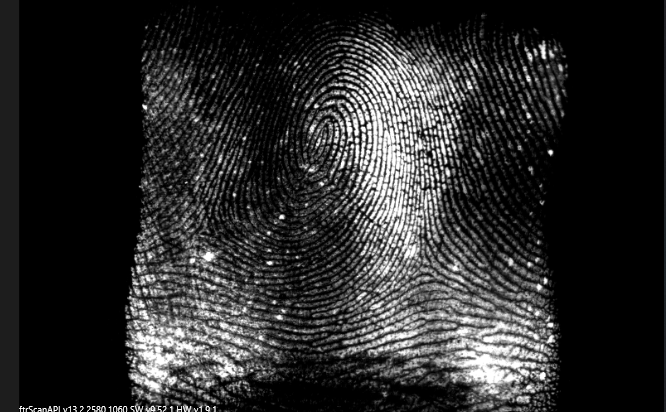deltas: (187, 200, 230, 255), (405, 246, 452, 293)
nucleo: (291, 118, 338, 173)
